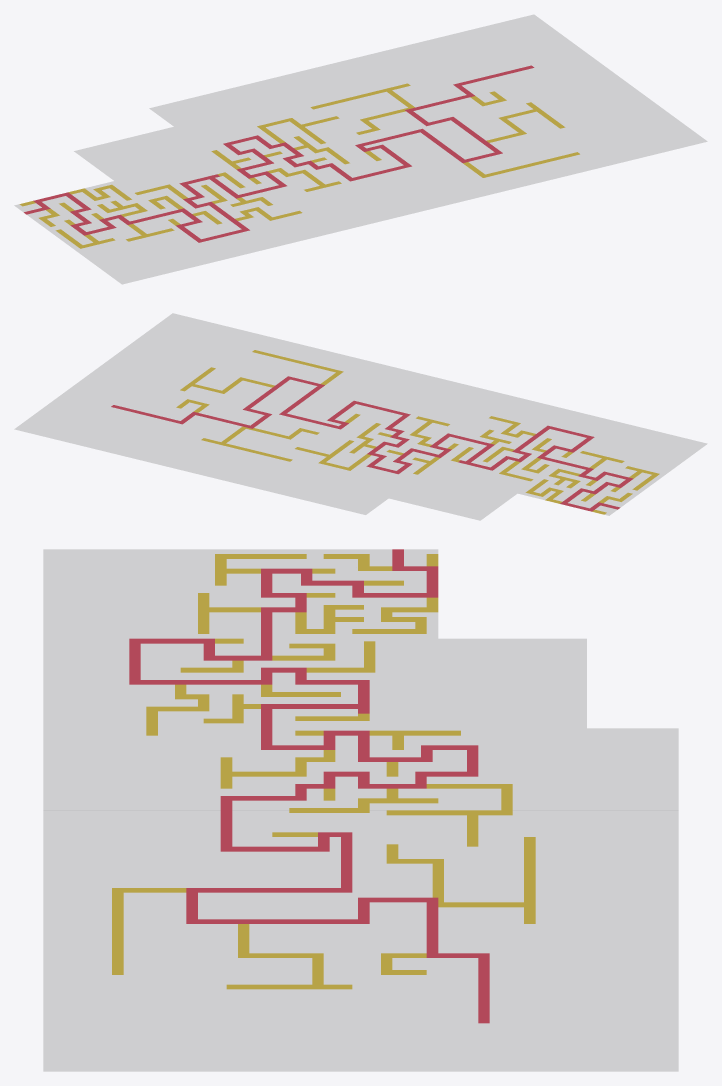
Rendered from map.fbx.
3 views of the same model, one above another, from view 1: azimuth 30°, elevation 25°; view 2: azimuth 150°, elevation 25°; view 3: azimuth 270°, elevation 25° (orthographic). The views are drawn at different scales.
Parts seen in each view (by area): view 1: polySurface15; view 2: polySurface15; view 3: polySurface15.
Boxes of the visible parts, x1,y1,x2,y2 form: polySurface15: (14, 14, 707, 284); polySurface15: (14, 313, 706, 520); polySurface15: (43, 549, 678, 1071).
Bounding box in the file's own units: 432 × 0 × 222.
